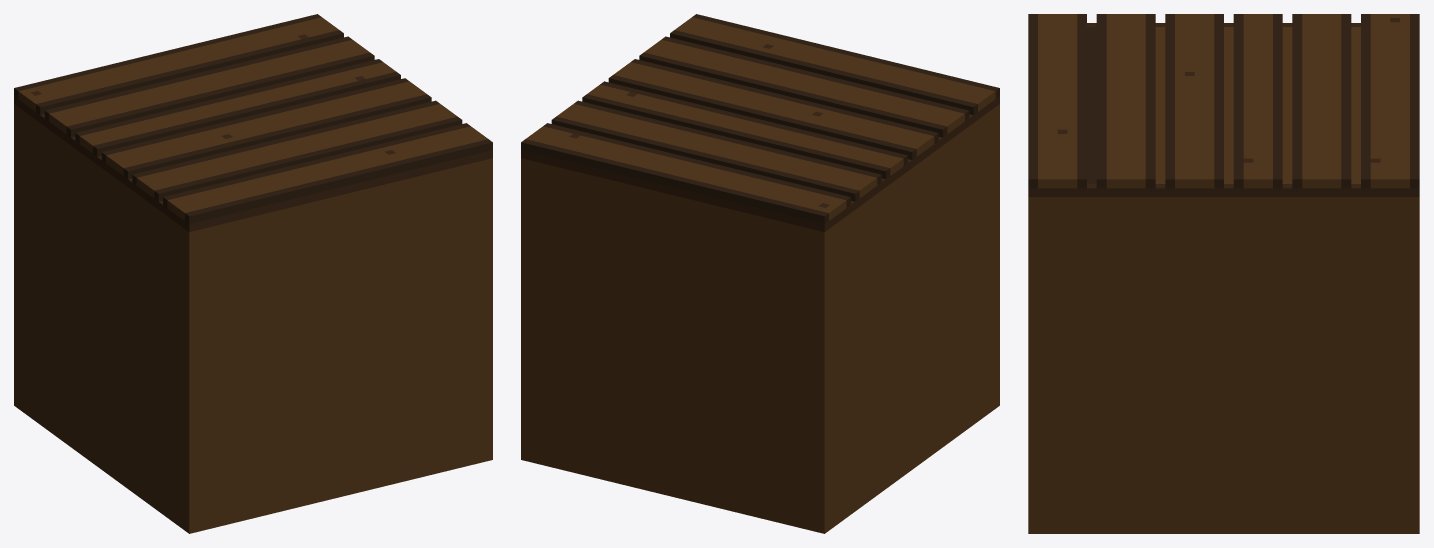
Rendered from floor_3.obj.
The picture shows the model from 3 angles, left to right: view 1: azimuth 30°, elevation 25°; view 2: azimuth 150°, elevation 25°; view 3: azimuth 270°, elevation 25°; orthographic projection. The views are drawn at different scales.
Parts seen in each view (by area): view 1: floor_3; view 2: floor_3; view 3: floor_3.
Boxes of the visible parts, x1,y1,x2,y2 form: floor_3: [14, 14, 492, 533]; floor_3: [521, 14, 999, 533]; floor_3: [1028, 14, 1419, 533].
Bounding box in the file's own units: 40 × 40 × 40.
1 material, 1 textured.
